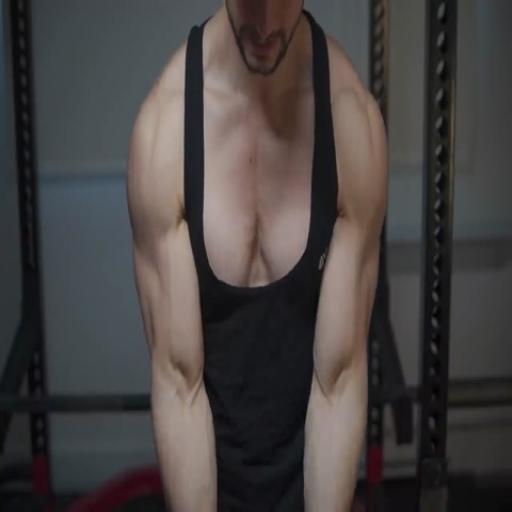exercise: (124, 0, 392, 511)
